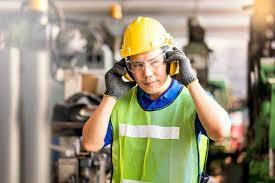Ear_protector: (115, 60, 135, 82), (165, 53, 180, 74)
Hard_hat: (114, 15, 176, 59)
Vest: (78, 83, 217, 183), (103, 72, 209, 183)
Visor: (129, 56, 169, 73)
